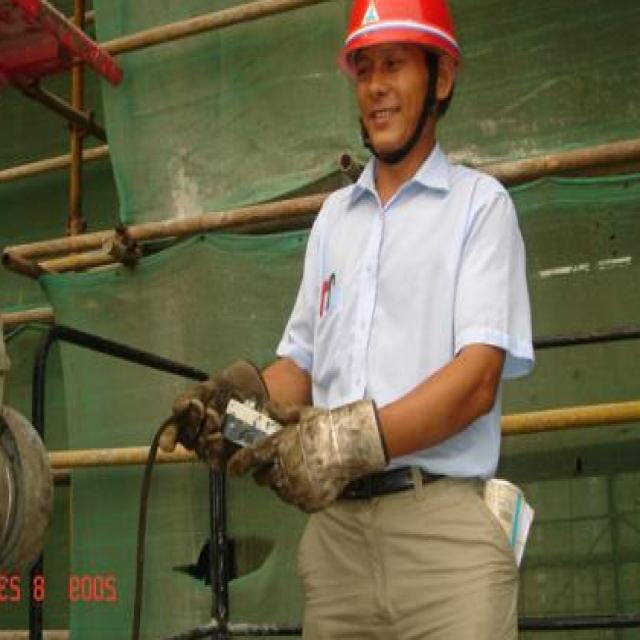helmet: (321, 0, 488, 179)
